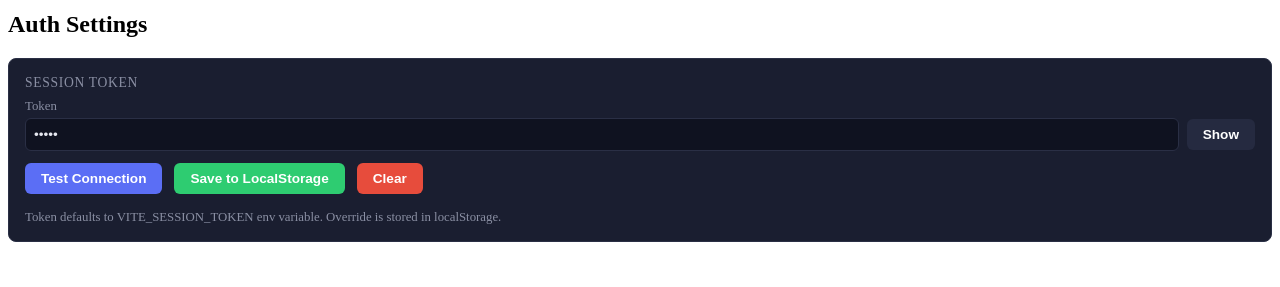
Test: AuthSettings › save stores token in localStorage
The width and height of the screenshot is (1280, 287).
Type "my-secret-token" into the password field with test id "token-input". click: (602, 134)
box: [25,118,1179,151]
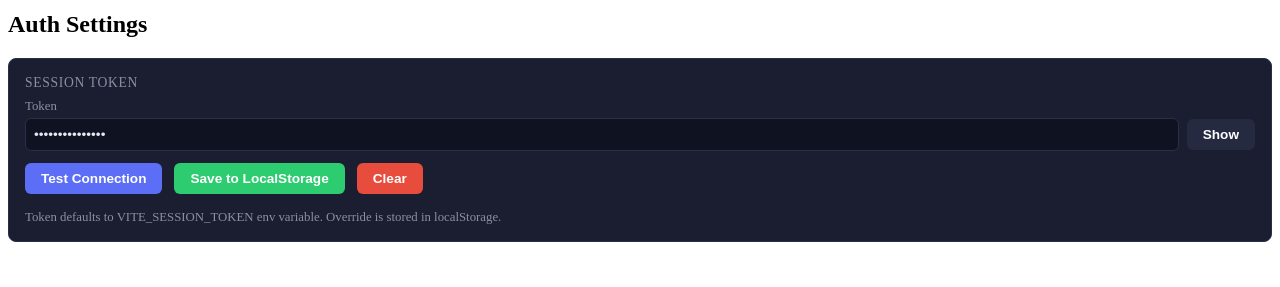
Click the button with test id "save-token". click: (260, 178)
box: [174,163,345,194]
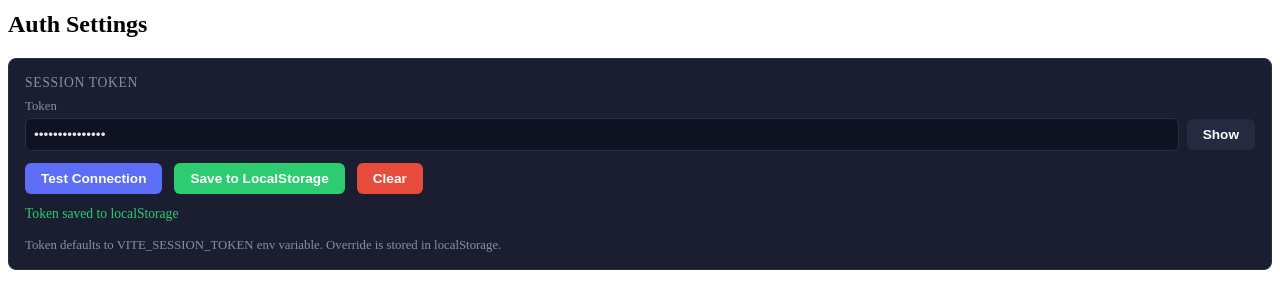
Expected: the text with test id "auth-message" shows "saved", [25,206,178,221]
